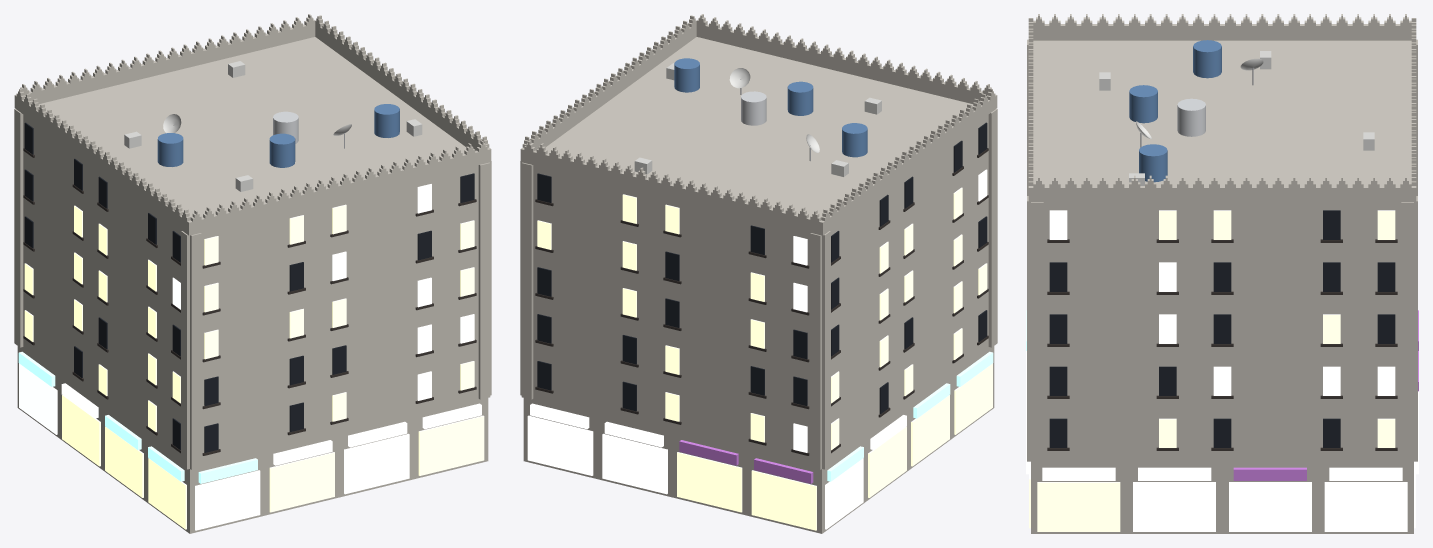
The model's file is SM_RiyadhBlock_02.fbx.
3 renders of one model, left to right at view 1: azimuth 30°, elevation 25°; view 2: azimuth 150°, elevation 25°; view 3: azimuth 270°, elevation 25°, orthographic. The views are drawn at different scales.
Visible parts, largest first — view 1: SM_RiyadhBlock_02; view 2: SM_RiyadhBlock_02; view 3: SM_RiyadhBlock_02.
Part boxes in pixels (x1,y1,x2,y2): SM_RiyadhBlock_02: (14, 14, 491, 533); SM_RiyadhBlock_02: (520, 14, 997, 533); SM_RiyadhBlock_02: (1026, 14, 1418, 533).
Bounding box in the file's own units: 2462 × 2495 × 2462.
